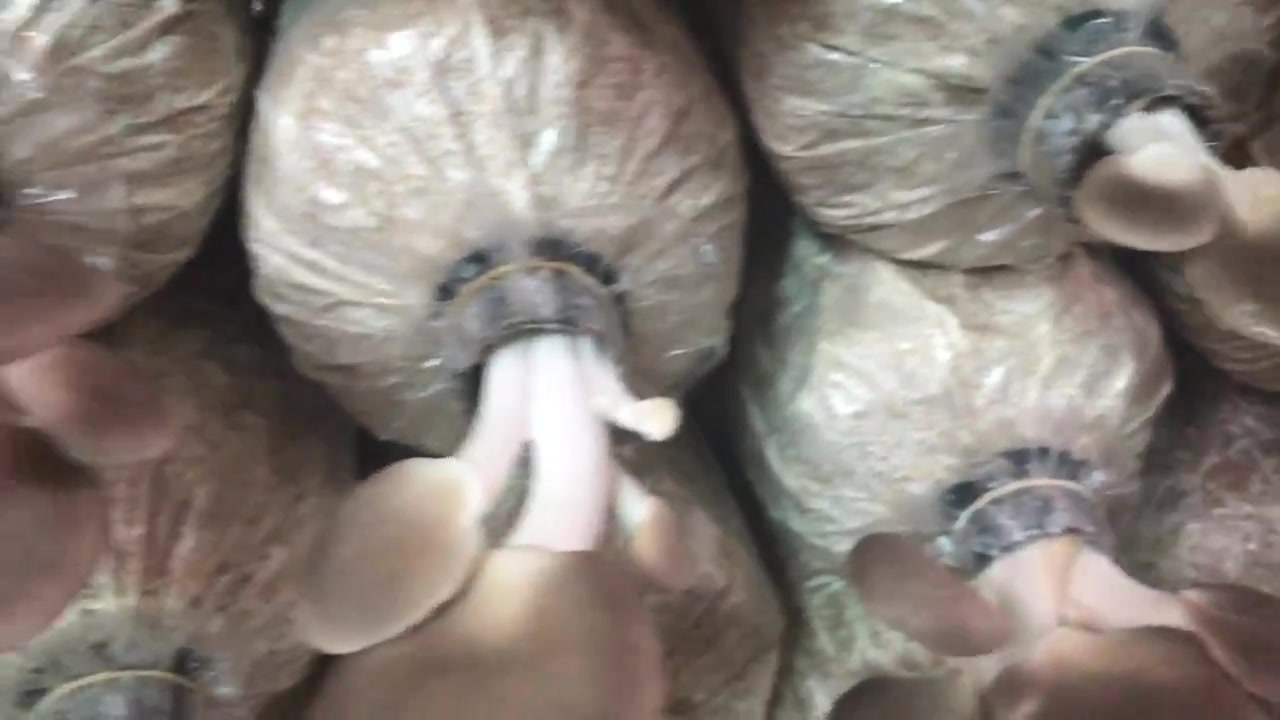nam: (306, 266, 720, 720), (830, 488, 1280, 717), (1049, 48, 1280, 341)
